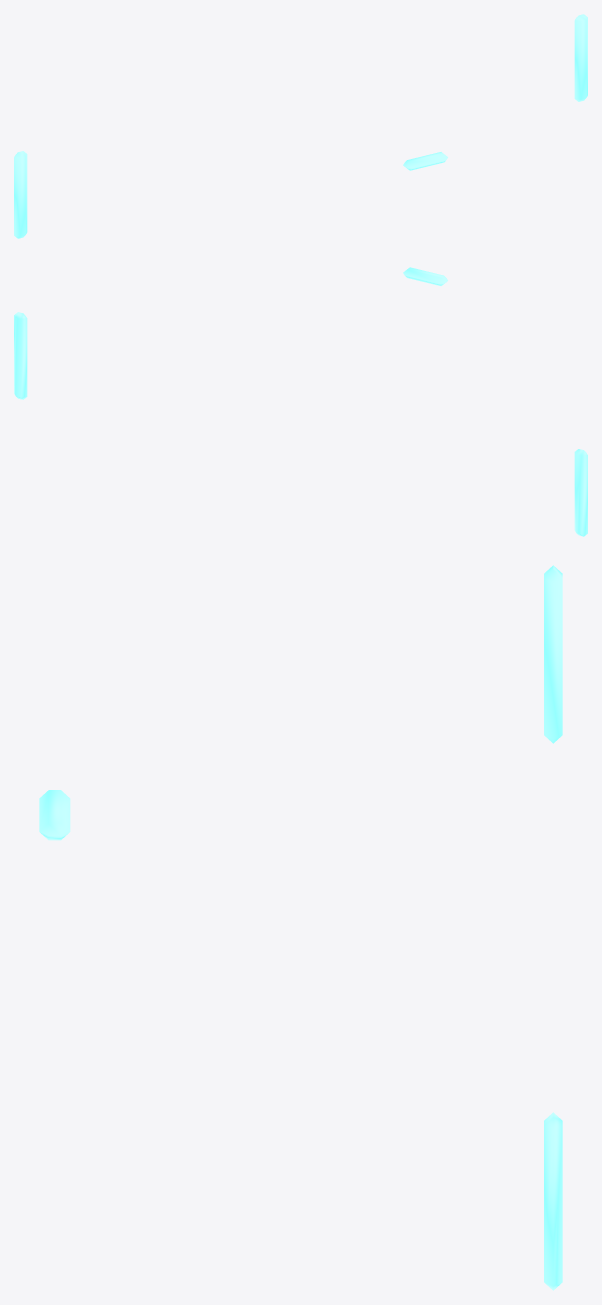
The model's file is Estela_Cadera_Neon.fbx.
The picture shows the model from 3 angles, top to bottom: view 1: azimuth 30°, elevation 25°; view 2: azimuth 150°, elevation 25°; view 3: azimuth 270°, elevation 25°; orthographic projection. The views are drawn at different scales.
Parts seen in each view (by area): view 1: Estela_Cadera_Neon; view 2: Estela_Cadera_Neon; view 3: Estela_Cadera_Neon.
Boxes of the visible parts, bbox=[...] form: Estela_Cadera_Neon: bbox=[14, 14, 587, 238]; Estela_Cadera_Neon: bbox=[14, 267, 587, 536]; Estela_Cadera_Neon: bbox=[39, 565, 562, 1290].
Bounding box in the file's own units: 2.13 × 0.3692 × 0.8426.
